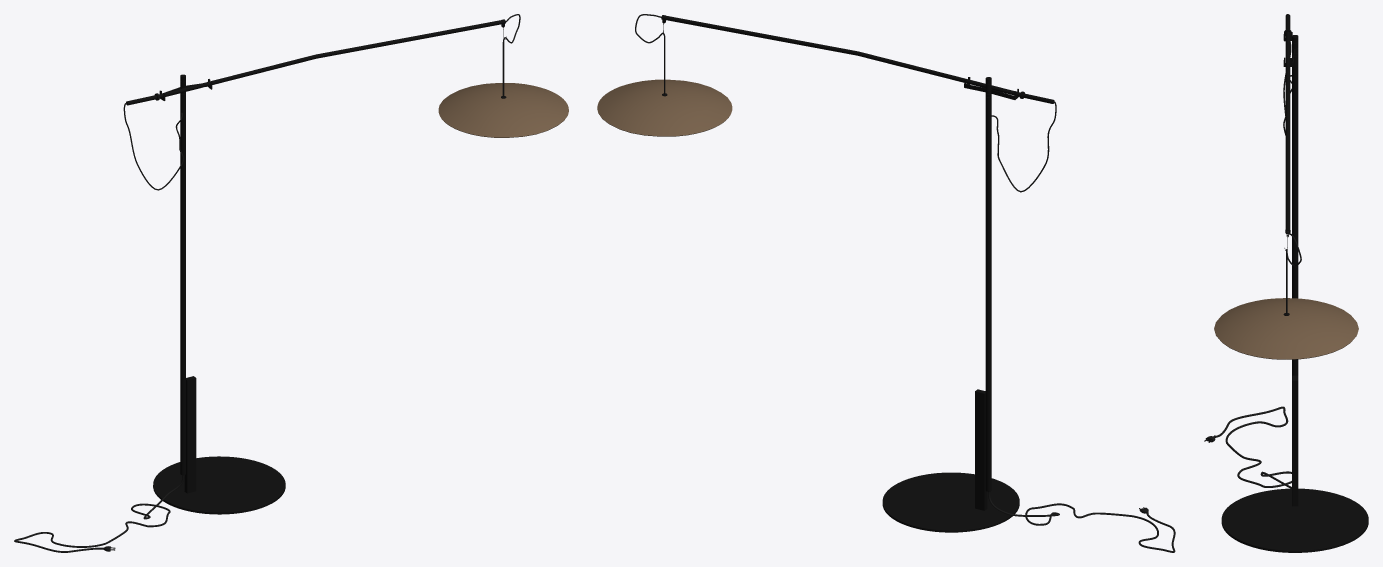
File: marset ginger floor lamp.fbx
3 renders of one model, left to right at view 1: azimuth 30°, elevation 25°; view 2: azimuth 150°, elevation 25°; view 3: azimuth 270°, elevation 25°, orthographic. The views are drawn at different scales.
Parts seen in each view (by area): view 1: marset_ginger_04, marset_ginger_05, marset_ginger_01, marset_ginger_02, marset_ginger_cable; view 2: marset_ginger_04, marset_ginger_05, marset_ginger_01, marset_ginger_02, marset_ginger_cable; view 3: marset_ginger_04, marset_ginger_05, marset_ginger_01, marset_ginger_02, marset_ginger_cable, marset_ginger_06.
Boxes of the visible parts, box(x1,y1,x2,y2) form: marset_ginger_04: box(153, 376, 285, 514); marset_ginger_05: box(438, 83, 568, 137); marset_ginger_01: box(159, 74, 212, 475); marset_ginger_02: box(126, 20, 502, 105); marset_ginger_cable: box(14, 475, 184, 552); marset_ginger_04: box(882, 389, 1019, 532); marset_ginger_05: box(597, 79, 732, 136); marset_ginger_01: box(964, 77, 1018, 491); marset_ginger_02: box(664, 15, 1054, 103); marset_ginger_cable: box(988, 491, 1175, 552); marset_ginger_04: box(1221, 375, 1368, 552); marset_ginger_05: box(1214, 298, 1358, 359); marset_ginger_01: box(1283, 32, 1298, 375); marset_ginger_02: box(1284, 14, 1291, 234); marset_ginger_cable: box(1215, 406, 1291, 488); marset_ginger_06: box(1286, 231, 1301, 313).
Bounding box in the file's own units: 290 × 213 × 67.97.
